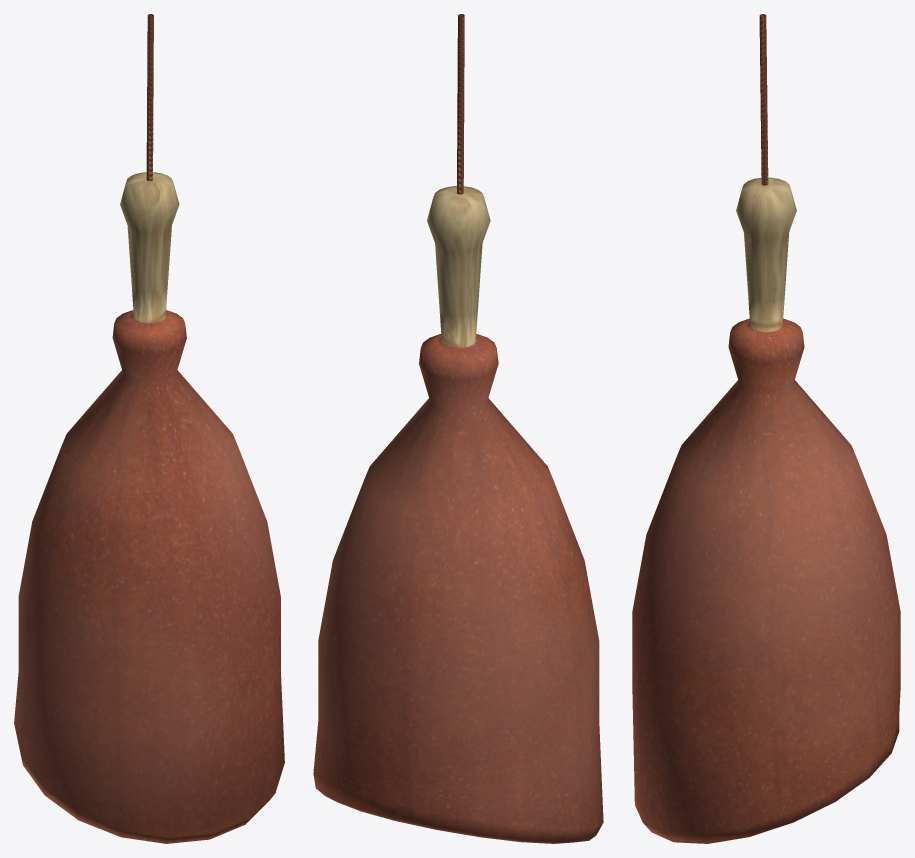
Rendered from SM_Ham.fbx.
The picture shows the model from 3 angles, left to right: view 1: azimuth 30°, elevation 25°; view 2: azimuth 150°, elevation 25°; view 3: azimuth 270°, elevation 25°; orthographic projection. The views are drawn at different scales.
Visible parts, largest first — view 1: SM_Ham_LOD0; view 2: SM_Ham_LOD0; view 3: SM_Ham_LOD0.
Boxes of the visible parts, x1,y1,x2,y2 form: SM_Ham_LOD0: (14, 14, 284, 843); SM_Ham_LOD0: (313, 14, 603, 843); SM_Ham_LOD0: (632, 14, 900, 843).
Bounding box in the file's own units: 122 × 118 × 387.
1 material, 1 textured.
